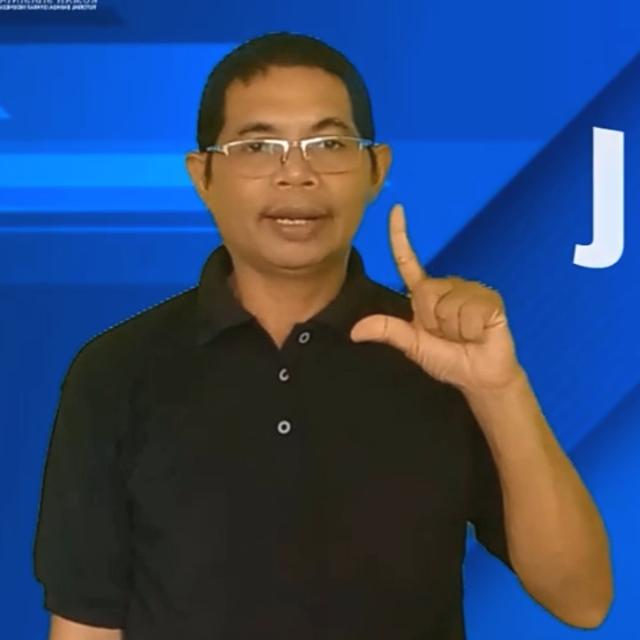L: (348, 202, 514, 394)
